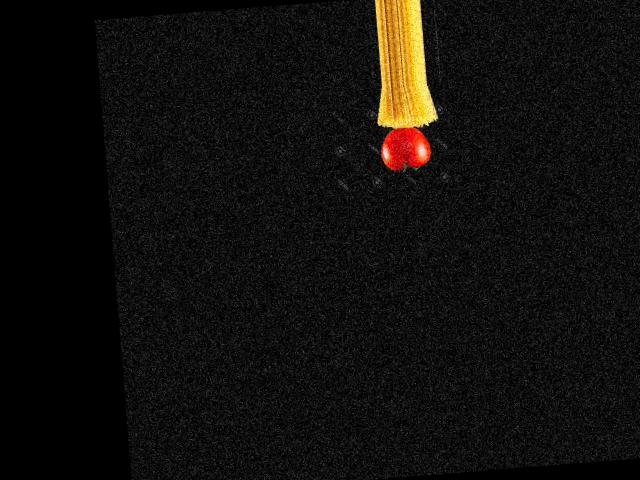tomato: (380, 125, 432, 170)
